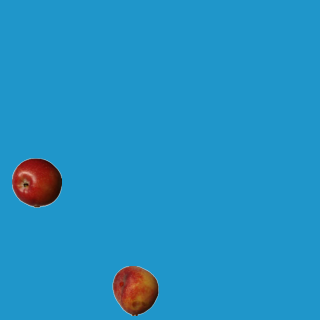Apple Braeburn: (11, 157, 61, 207)
Peach: (110, 265, 160, 315)
